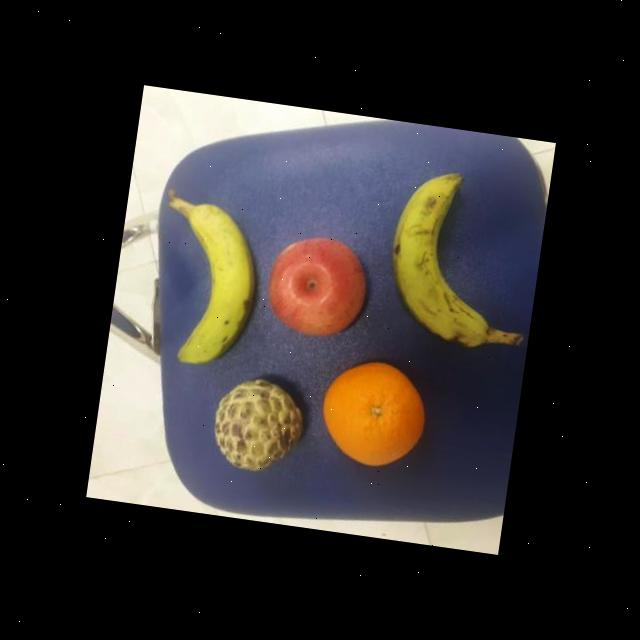Sakya fruit: (204, 370, 310, 480)
apple: (258, 228, 372, 344)
banana: (378, 168, 512, 352), (161, 197, 265, 372)
orange: (314, 349, 434, 474)
